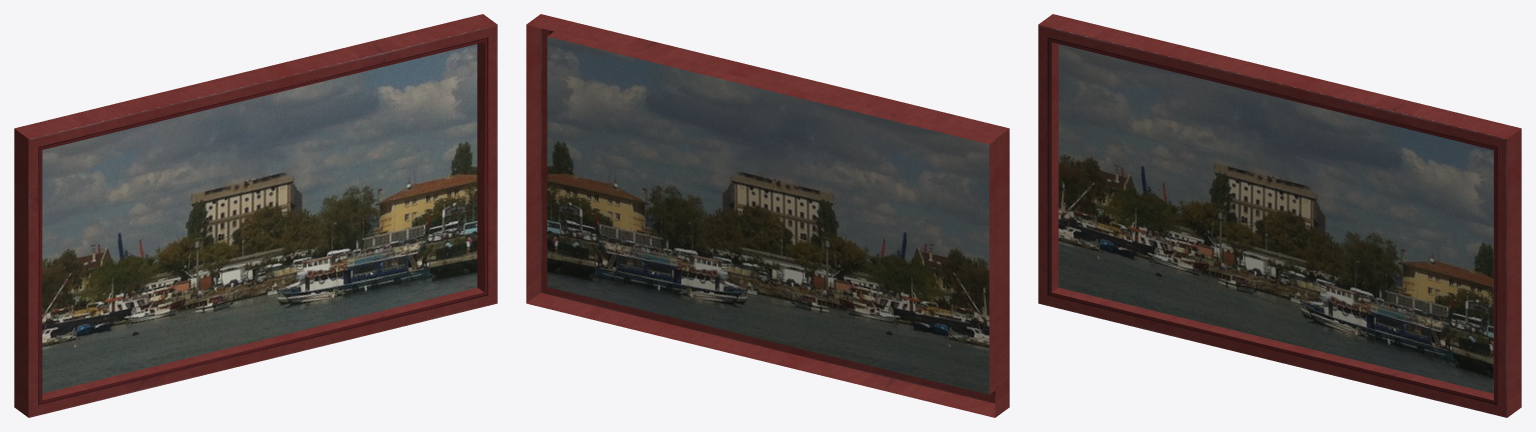
The model's file is Picture02.fbx.
3 renders of one model, left to right at view 1: azimuth 30°, elevation 25°; view 2: azimuth 150°, elevation 25°; view 3: azimuth 330°, elevation 25°, orthographic.
Parts seen in each view (by area): view 1: Mesh; view 2: Mesh; view 3: Mesh.
Part boxes in pixels (x1,y1,x2,y2): Mesh: [14, 14, 497, 417]; Mesh: [526, 14, 1009, 417]; Mesh: [1038, 14, 1521, 417].
Bounding box in the file's own units: 176 × 100 × 9.5.
